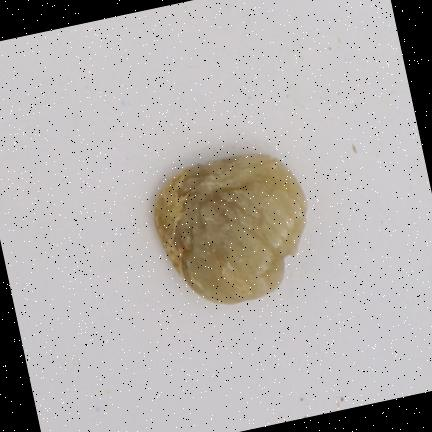husk: (154, 154, 308, 304)
